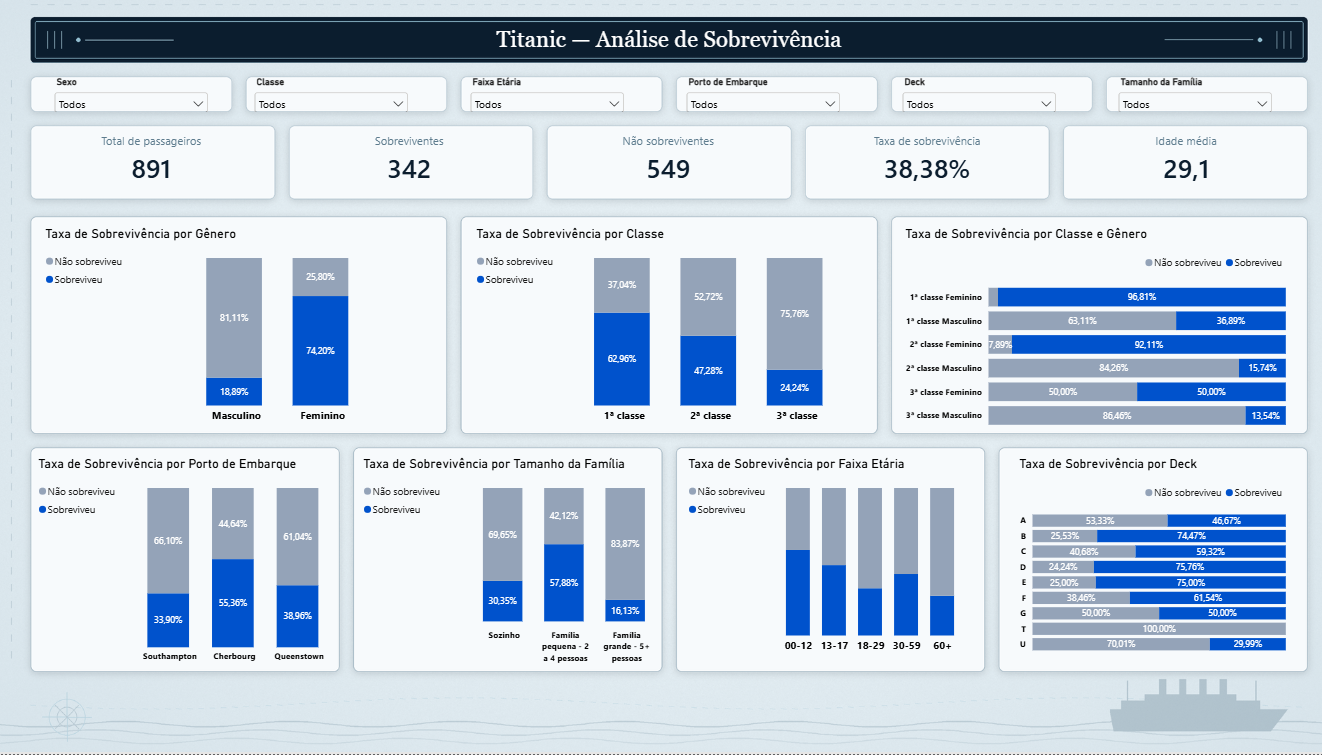

This screenshot's page, from the dashboard's own definition file:
{"tool":"powerbi","page":{"name":"Análise Titanic","canvas":[1920,1080],"ordinal":0},"visuals":[{"type":"textbox","box":[77.1,41.4,1814.3,54.3],"z":0},{"type":"cardVisual","fields":{"Data":["_Medidas.Total de passageiros"]},"box":[77.1,178.6,335.7,104.3],"z":1000},{"type":"cardVisual","fields":{"Data":["_Medidas.Sobreviventes"]},"box":[445.7,178.6,335.7,104.3],"z":2000},{"type":"cardVisual","fields":{"Data":["_Medidas.Não sobreviventes"]},"box":[815.7,178.6,335.7,104.3],"z":3000},{"type":"cardVisual","fields":{"Data":["_Medidas.Taxa de sobrevivência"]},"box":[1185.7,178.6,335.7,104.3],"z":4000},{"type":"cardVisual","fields":{"Data":["_Medidas.Idade média"]},"box":[1555.7,178.6,335.7,104.3],"z":5000},{"type":"hundredPercentStackedColumnChart","title":"Taxa de Sobrevivência por Gênero","fields":{"Category":["titanic.sexo"],"Series":["titanic.resultado_sobrevivencia"],"Y":["_Medidas.Total de passageiros"]},"box":[77.1,311.4,582.9,315.7],"z":6000},{"type":"hundredPercentStackedColumnChart","title":"Taxa de Sobrevivência por Classe","fields":{"Category":["titanic.classe_descricao"],"Series":["titanic.resultado_sobrevivencia"],"Y":["_Medidas.Total de passageiros"]},"box":[692.9,311.4,582.9,315.7],"z":7000},{"type":"hundredPercentStackedColumnChart","title":"Taxa de Sobrevivência por Faixa Etária","fields":{"Category":["titanic.faixa_etaria"],"Series":["titanic.resultado_sobrevivencia"],"Y":["_Medidas.Total de passageiros"]},"box":[995.7,640,434.3,315.7],"z":8000},{"type":"hundredPercentStackedColumnChart","title":"Taxa de Sobrevivência por Porto de Embarque","fields":{"Category":["titanic.porto_embarque"],"Series":["titanic.resultado_sobrevivencia"],"Y":["_Medidas.Total de passageiros"]},"box":[67.1,640,474.3,328.6],"z":9000},{"type":"hundredPercentStackedColumnChart","title":"Taxa de Sobrevivência por Tamanho da Família","fields":{"Category":["titanic.grupo_tamanho_familia"],"Series":["titanic.resultado_sobrevivencia"],"Y":["_Medidas.Total de passageiros"]},"box":[531.4,640,474.3,328.6],"z":10000},{"type":"hundredPercentStackedBarChart","title":"Taxa de Sobrevivência por Deck","fields":{"Category":["titanic.deck"],"Series":["titanic.resultado_sobrevivencia"],"Y":["_Medidas.Total de passageiros"]},"box":[1468.6,640,412.9,317.1],"z":11000},{"type":"hundredPercentStackedBarChart","title":"Taxa de Sobrevivência por Classe e Gênero","fields":{"Category":["titanic.classe_descricao","titanic.sexo"],"Series":["titanic.resultado_sobrevivencia"],"Y":["_Medidas.Total de passageiros"]},"box":[1305.7,311.4,575.7,328.6],"z":12000},{"type":"slicer","title":"Sexo","fields":{"Values":["titanic.sexo"]},"box":[101.4,112.9,229,50],"z":13000},{"type":"slicer","fields":{"Values":["titanic.classe_descricao"]},"box":[387.1,112.9,229,50],"z":14000},{"type":"slicer","fields":{"Values":["titanic.faixa_etaria"]},"box":[695.7,112.9,229,50],"z":15000},{"type":"slicer","fields":{"Values":["titanic.porto_embarque"]},"box":[1004.3,112.9,229,50],"z":16000},{"type":"slicer","fields":{"Values":["titanic.deck"]},"box":[1312.9,112.9,229,50],"z":17000},{"type":"slicer","fields":{"Values":["titanic.grupo_tamanho_familia"]},"box":[1621.4,112.9,229,50],"z":18000}]}

Visuals, with their boxes in screenshot pixels (x1, y1, x2, y2), scaled from the page's 1920x1080 canvas onto the 1322x755 screenshot:
textbox: 53 29 1302 67
cardVisual - _Medidas.Total de passageiros: 53 125 284 198
cardVisual - _Medidas.Sobreviventes: 307 125 538 198
cardVisual - _Medidas.Não sobreviventes: 562 125 793 198
cardVisual - _Medidas.Taxa de sobrevivência: 816 125 1048 198
cardVisual - _Medidas.Idade média: 1071 125 1302 198
"Taxa de Sobrevivência por Gênero" hundredPercentStackedColumnChart: 53 218 454 438
"Taxa de Sobrevivência por Classe" hundredPercentStackedColumnChart: 477 218 878 438
"Taxa de Sobrevivência por Faixa Etária" hundredPercentStackedColumnChart: 686 447 985 668
"Taxa de Sobrevivência por Porto de Embarque" hundredPercentStackedColumnChart: 46 447 373 677
"Taxa de Sobrevivência por Tamanho da Família" hundredPercentStackedColumnChart: 366 447 692 677
"Taxa de Sobrevivência por Deck" hundredPercentStackedBarChart: 1011 447 1295 669
"Taxa de Sobrevivência por Classe e Gênero" hundredPercentStackedBarChart: 899 218 1295 447
"Sexo" slicer: 70 79 227 114
slicer - titanic.classe_descricao: 267 79 424 114
slicer - titanic.faixa_etaria: 479 79 637 114
slicer - titanic.porto_embarque: 692 79 849 114
slicer - titanic.deck: 904 79 1062 114
slicer - titanic.grupo_tamanho_familia: 1116 79 1274 114
